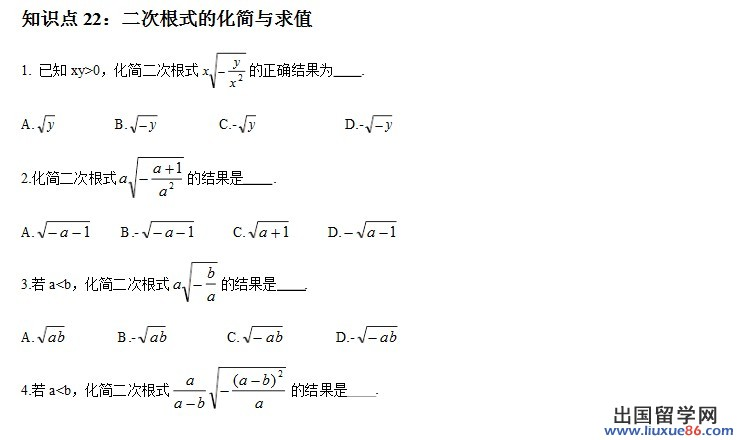division: (231, 385, 286, 396), (150, 175, 178, 185), (174, 386, 205, 394), (229, 67, 243, 75), (204, 280, 215, 289), (168, 179, 175, 191)
sqrt: (212, 363, 290, 409), (128, 153, 184, 200), (184, 258, 221, 303), (210, 49, 248, 91), (141, 215, 196, 240), (38, 221, 91, 240), (358, 218, 399, 241), (358, 322, 399, 345), (248, 218, 292, 239), (243, 323, 285, 345), (131, 112, 158, 134), (141, 323, 168, 344), (367, 115, 393, 135), (39, 325, 63, 345), (38, 113, 59, 135), (241, 111, 255, 134)
square: (277, 367, 285, 378), (237, 73, 245, 81)
